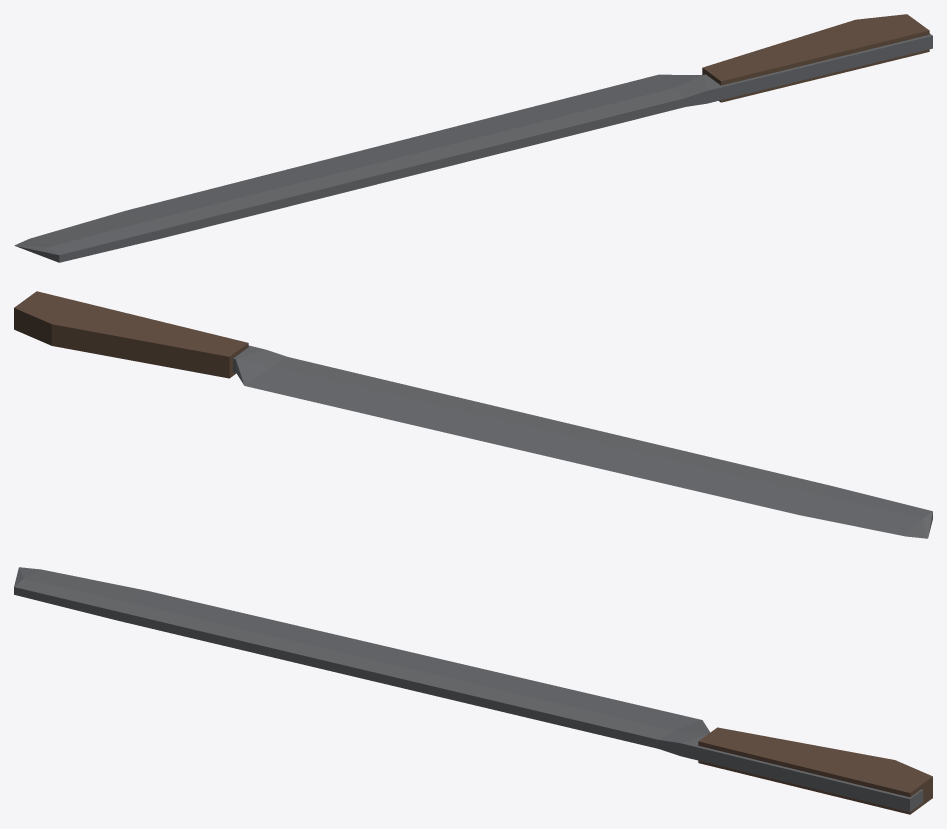
File: burjaKnife.fbx
The picture shows the model from 3 angles, top to bottom: view 1: azimuth 30°, elevation 25°; view 2: azimuth 150°, elevation 25°; view 3: azimuth 330°, elevation 25°; orthographic projection.
Visible parts, largest first — view 1: burjaKnife; view 2: burjaKnife; view 3: burjaKnife.
Boxes of the visible parts, left/top/right/bottom form: burjaKnife: left=14, top=14, right=932, bottom=262; burjaKnife: left=14, top=291, right=932, bottom=538; burjaKnife: left=14, top=567, right=932, bottom=814.
Bounding box in the file's own units: 87.06 × 1.98 × 6.57.
1 material, 1 textured.
